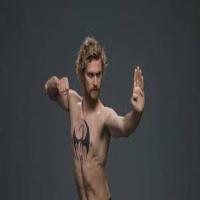ring: (138, 67, 143, 90)
